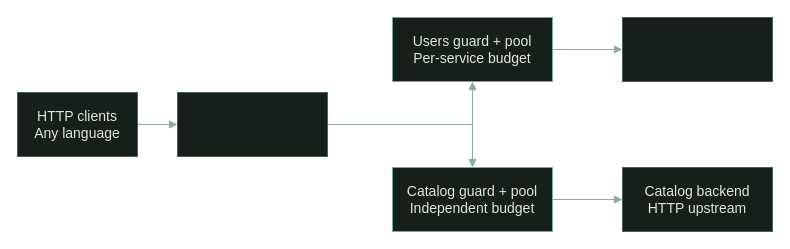
The diagram is 790 pixels wide and 249 high, and some of its shapes have lost their labels. The shapes that lost their labels are listed below. From the top down, each one's box as (x1, y1, x2, y2) in pixels, then its label:
(622, 16, 772, 82): Users backend HTTP upstream
(176, 92, 328, 156): Route selection Longest segment prefix
